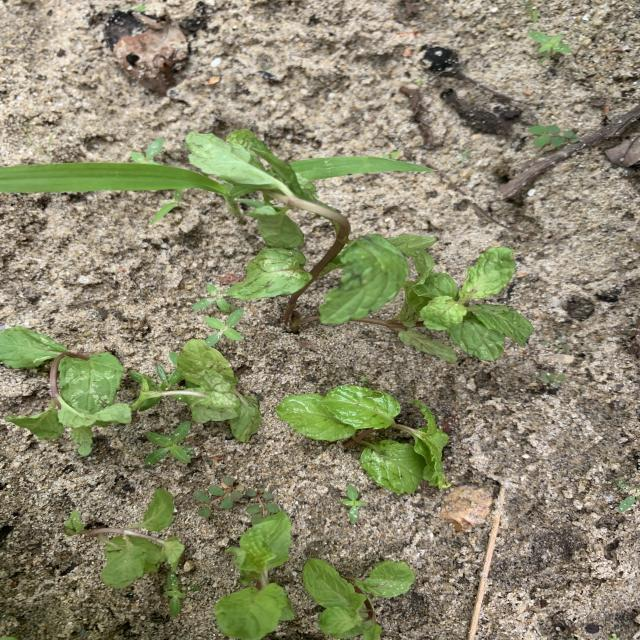crop: (186, 130, 533, 362), (2, 330, 259, 455), (217, 506, 411, 639), (278, 382, 447, 493), (64, 490, 184, 587)
weed: (0, 162, 245, 219), (145, 422, 191, 464), (205, 308, 244, 347), (528, 29, 571, 63), (207, 478, 255, 508), (150, 189, 186, 225), (193, 284, 231, 314), (529, 124, 576, 147), (247, 489, 280, 519), (164, 571, 185, 617), (341, 485, 365, 523), (131, 138, 164, 164), (616, 480, 639, 512), (540, 372, 566, 387)
